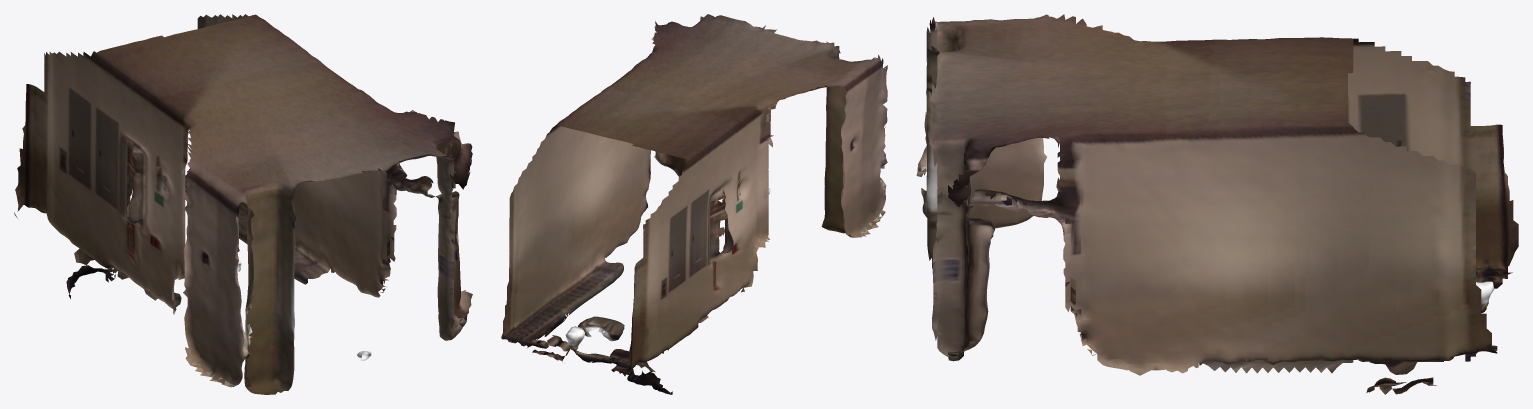
File: Hall4.obj
3 renders of one model, left to right at view 1: azimuth 30°, elevation 25°; view 2: azimuth 150°, elevation 25°; view 3: azimuth 270°, elevation 25°, orthographic. The views are drawn at different scales.
Bounding box in the file's own units: 4.02 × 3.86 × 7.04.
Materials: 1 (1 with a texture image).
